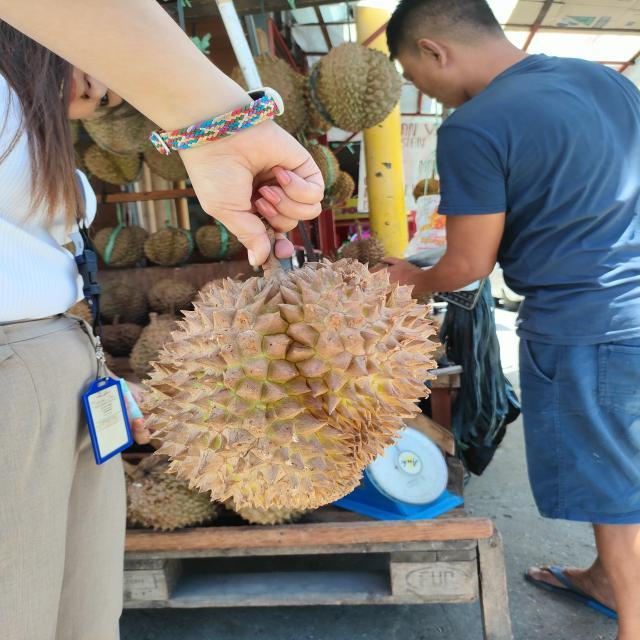mature: (142, 259, 444, 517)
